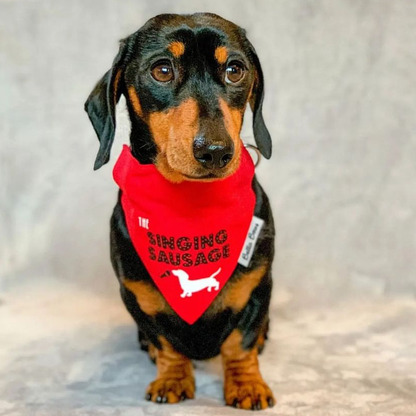dachshund: (77, 6, 320, 394)
